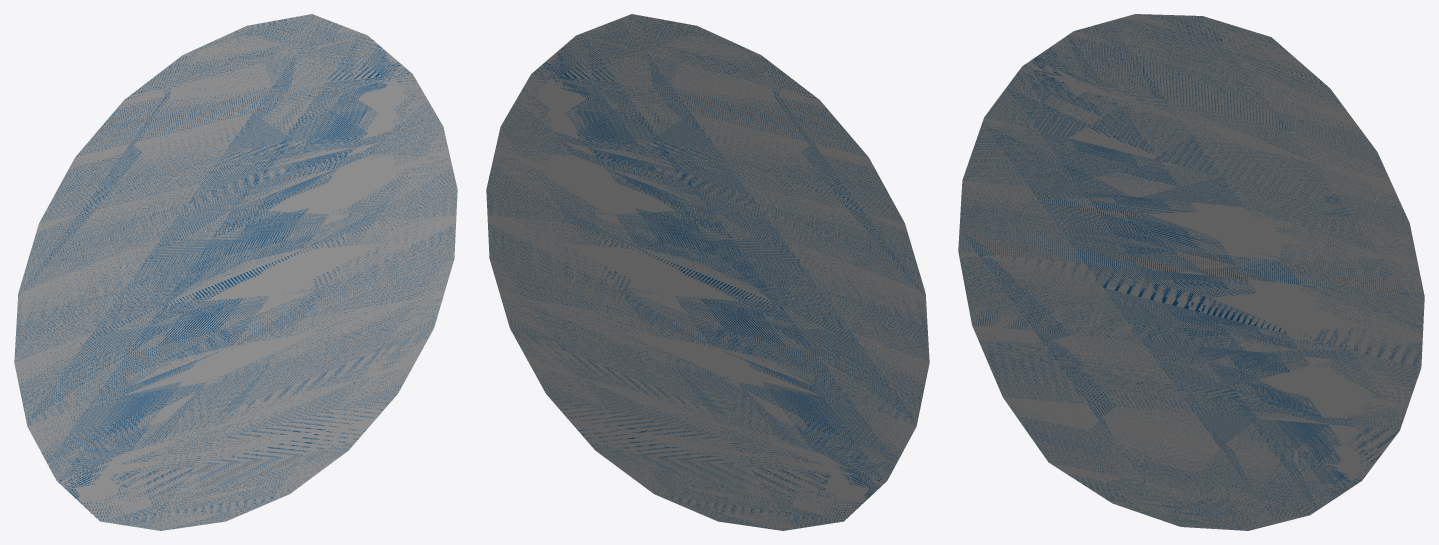
The model's file is original-20.obj.
3 views of the same model, side by side, from view 1: azimuth 30°, elevation 25°; view 2: azimuth 150°, elevation 25°; view 3: azimuth 330°, elevation 25° (orthographic). The views are drawn at different scales.
Parts seen in each view (by area): view 1: 3dw.2c6493d31849c15a75f1efca97bee05a/Model/Sentry_Really_Big_Rem; view 2: 3dw.2c6493d31849c15a75f1efca97bee05a/Model/Sentry_Really_Big_Rem; view 3: 3dw.2c6493d31849c15a75f1efca97bee05a/Model/Sentry_Really_Big_Rem.
Boxes of the visible parts, x1,y1,x2,y2 form: 3dw.2c6493d31849c15a75f1efca97bee05a/Model/Sentry_Really_Big_Rem: [14, 14, 457, 530]; 3dw.2c6493d31849c15a75f1efca97bee05a/Model/Sentry_Really_Big_Rem: [486, 14, 929, 530]; 3dw.2c6493d31849c15a75f1efca97bee05a/Model/Sentry_Really_Big_Rem: [958, 14, 1424, 530].
Bounding box in the file's own units: 0.1347 × 0.1424 × 0.
